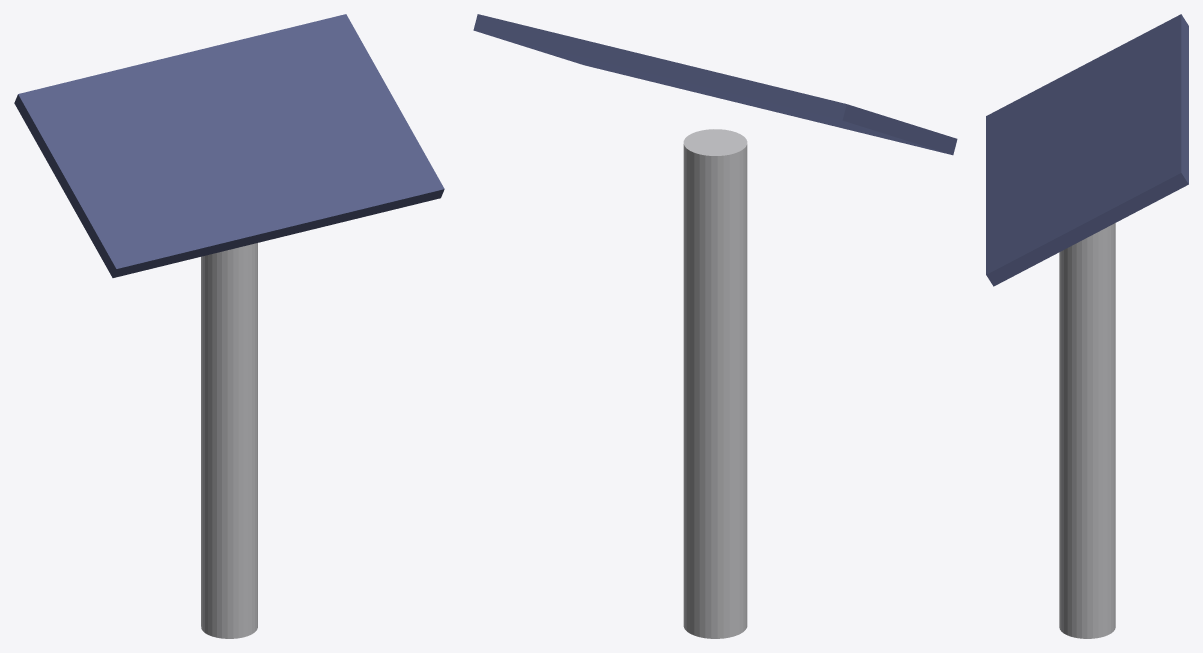
The model's file is solar_panel.glb.
The picture shows the model from 3 angles, left to right: view 1: azimuth 30°, elevation 25°; view 2: azimuth 150°, elevation 25°; view 3: azimuth 270°, elevation 25°; orthographic projection. The views are drawn at different scales.
Visible parts, largest first — view 1: Cube, Cylinder; view 2: Cylinder, Cube; view 3: Cube, Cylinder.
Boxes of the visible parts, <box> form: Cube: <box>14,14,444,277</box>; Cylinder: <box>201,243,257,638</box>; Cylinder: <box>683,129,747,638</box>; Cube: <box>473,14,957,155</box>; Cube: <box>986,14,1188,286</box>; Cylinder: <box>1059,223,1115,638</box>.
Bounding box in the file's own units: 2 × 3.13 × 1.08.
